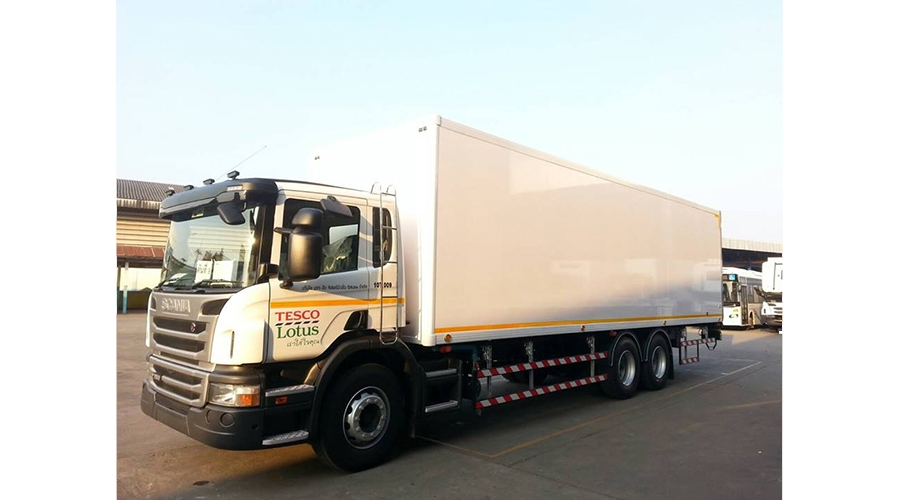truck: (136, 108, 516, 472)
